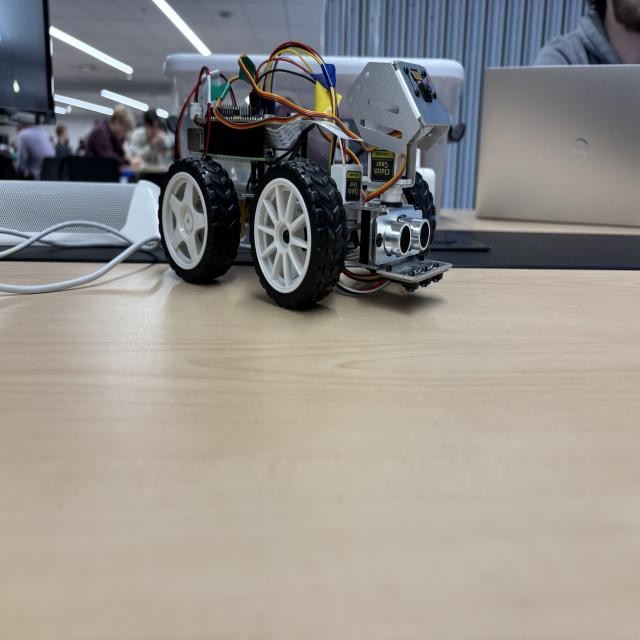vehicle: (155, 47, 454, 309)
